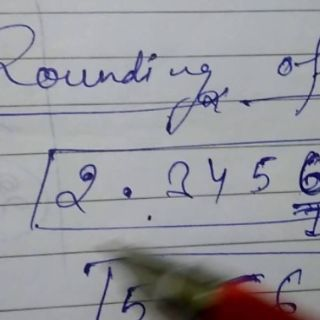.: (121, 185, 134, 199)
2: (50, 161, 96, 213)
5: (249, 153, 276, 195)
6: (298, 149, 320, 196)
